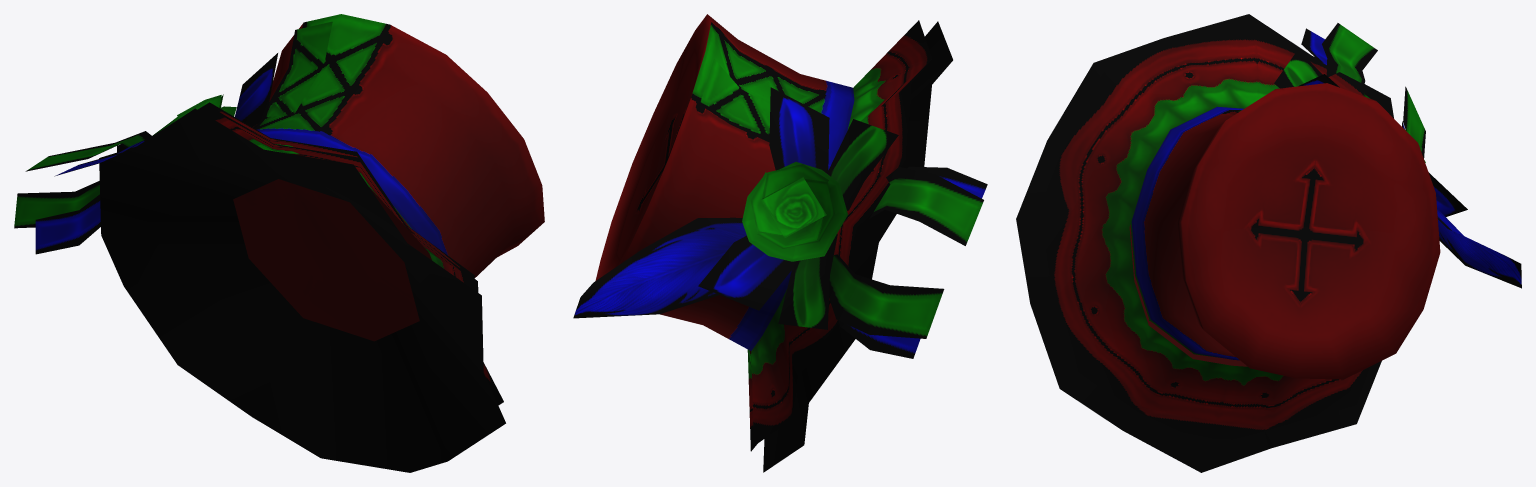
3 views of the same model, side by side, from view 1: azimuth 30°, elevation 25°; view 2: azimuth 150°, elevation 25°; view 3: azimuth 270°, elevation 25° (orthographic). The views are drawn at different scales.
Visible parts, largest first — view 1: G1223; view 2: G1223; view 3: G1223.
Boxes of the visible parts, x1,y1,x2,y2 form: G1223: (14, 14, 544, 472); G1223: (573, 14, 987, 472); G1223: (1016, 14, 1521, 472).
Size of the model in its own units: 0.3258 by 0.3019 by 0.3524.
